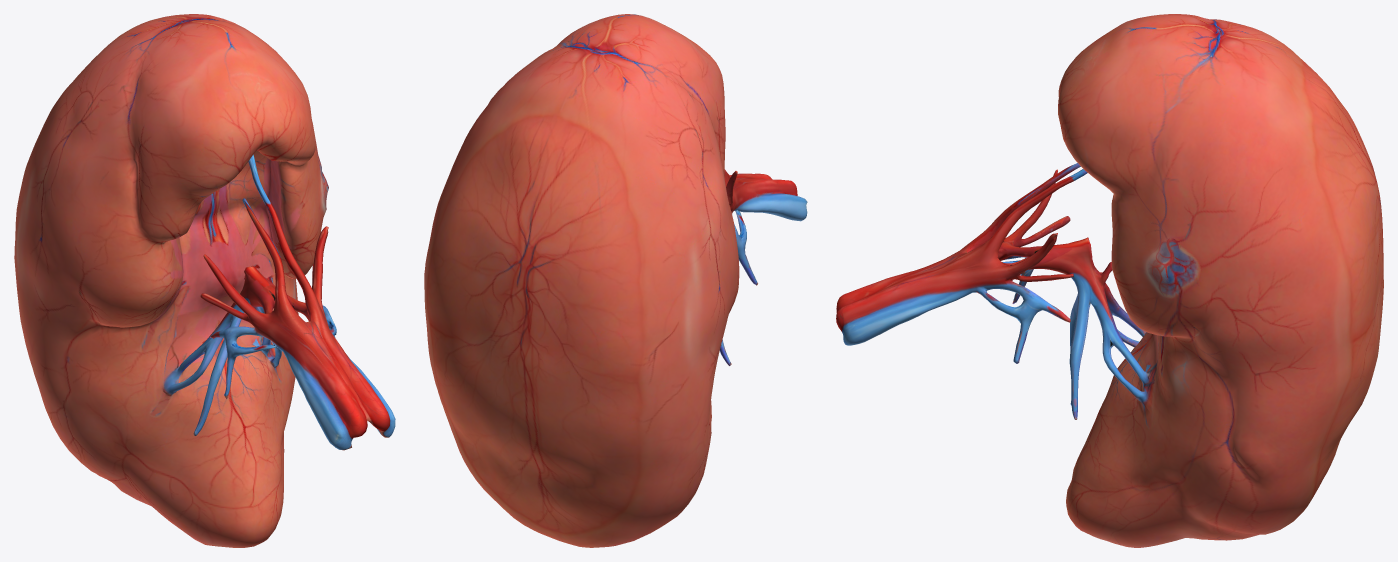
Rendered from HomeSpleen.glb.
3 views of the same model, side by side, from view 1: azimuth 30°, elevation 25°; view 2: azimuth 150°, elevation 25°; view 3: azimuth 270°, elevation 25° (orthographic). The views are drawn at different scales.
Size of the model in its own units: 1.11 by 1.99 by 1.9.
1 material, 1 textured.
